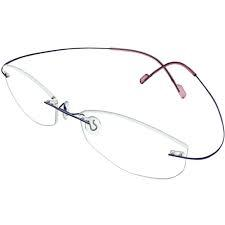spectacles: (1, 47, 217, 186)
